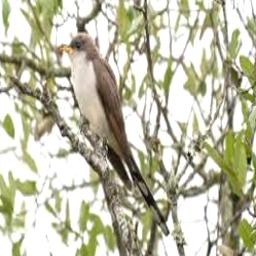Cuckoo: (62, 32, 171, 240)
